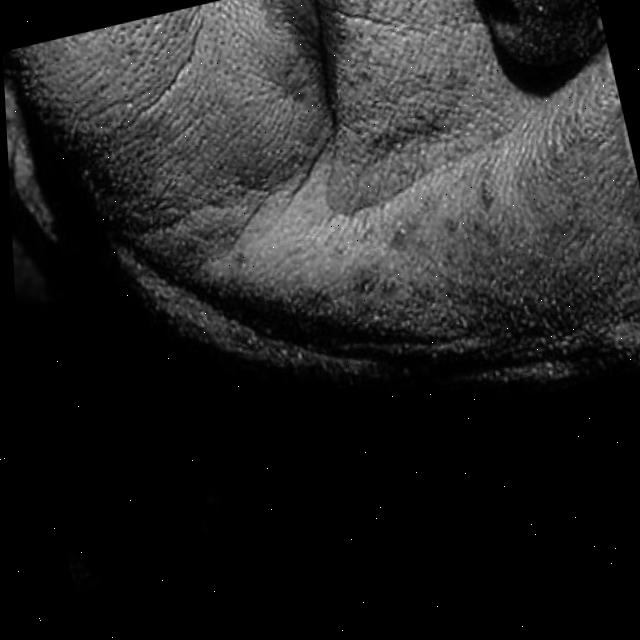Rosacea: (310, 100, 640, 356)
